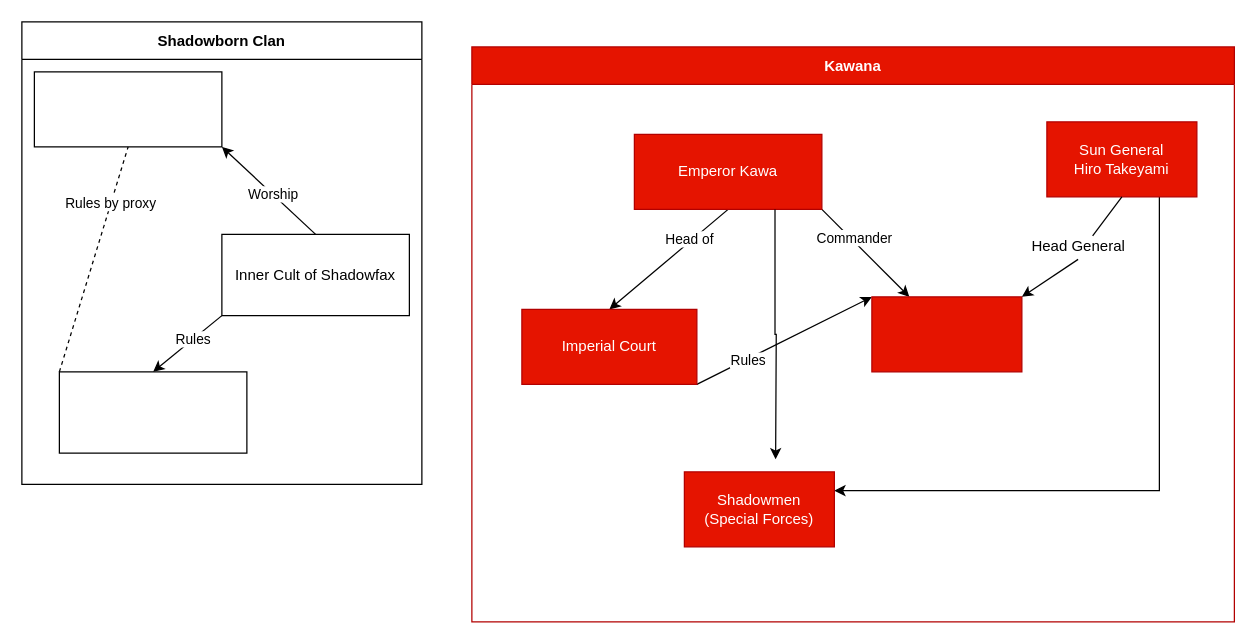
Image size: 1256x644. Some labels were removed from this diagram. The centre of each missing label's shape, as x and y in pixels:
Imperial Army: point 946,334
Rest of clan: point 152,412
Shadowfax: point 127,109
